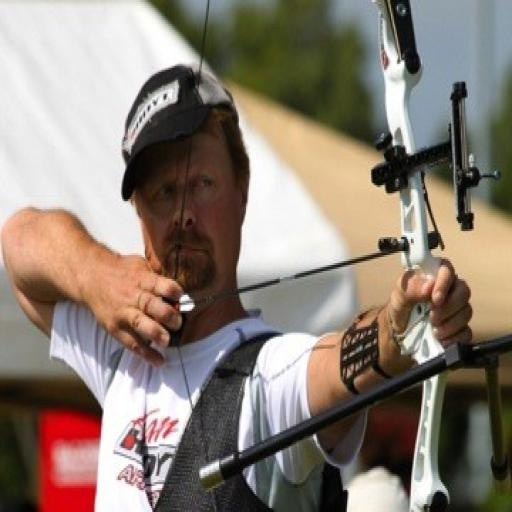shooting: (0, 60, 478, 510)
